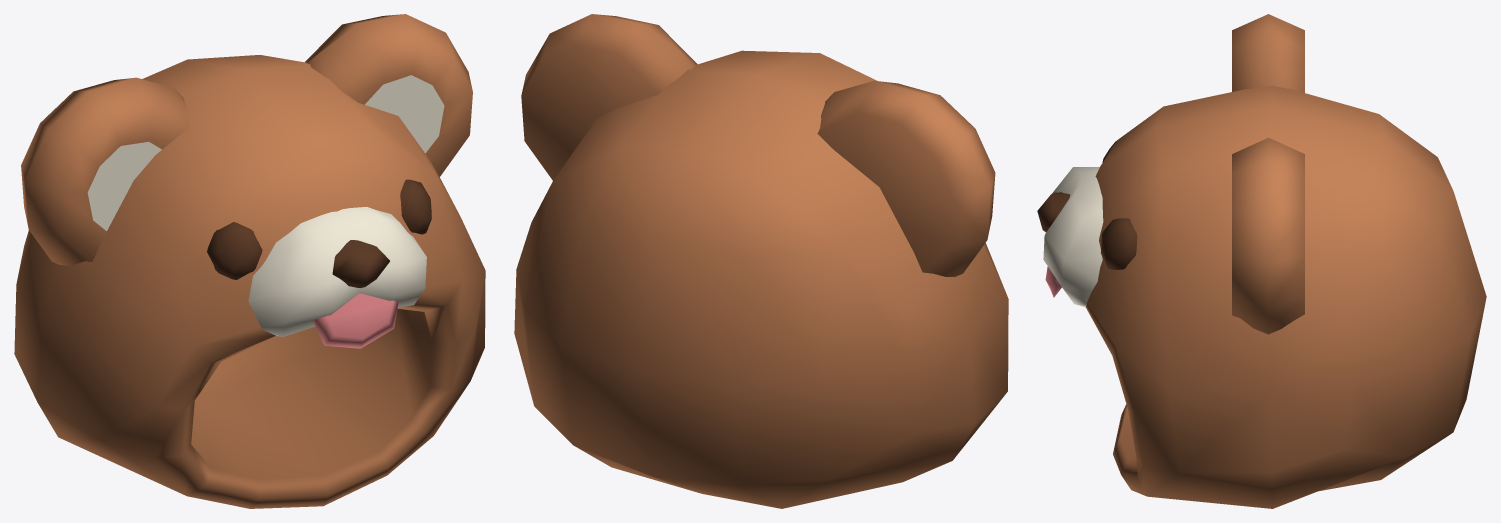
File: Headgear_36.fbx
The picture shows the model from 3 angles, left to right: view 1: azimuth 30°, elevation 25°; view 2: azimuth 150°, elevation 25°; view 3: azimuth 270°, elevation 25°; orthographic projection. The views are drawn at different scales.
Visible parts, largest first — view 1: Headgear_36; view 2: Headgear_36; view 3: Headgear_36.
Part boxes in pixels (x1,y1,x2,y2): Headgear_36: (14, 14, 485, 508); Headgear_36: (514, 14, 1008, 508); Headgear_36: (1037, 14, 1486, 508).
Bounding box in the file's own units: 94.71 × 84 × 86.97.
